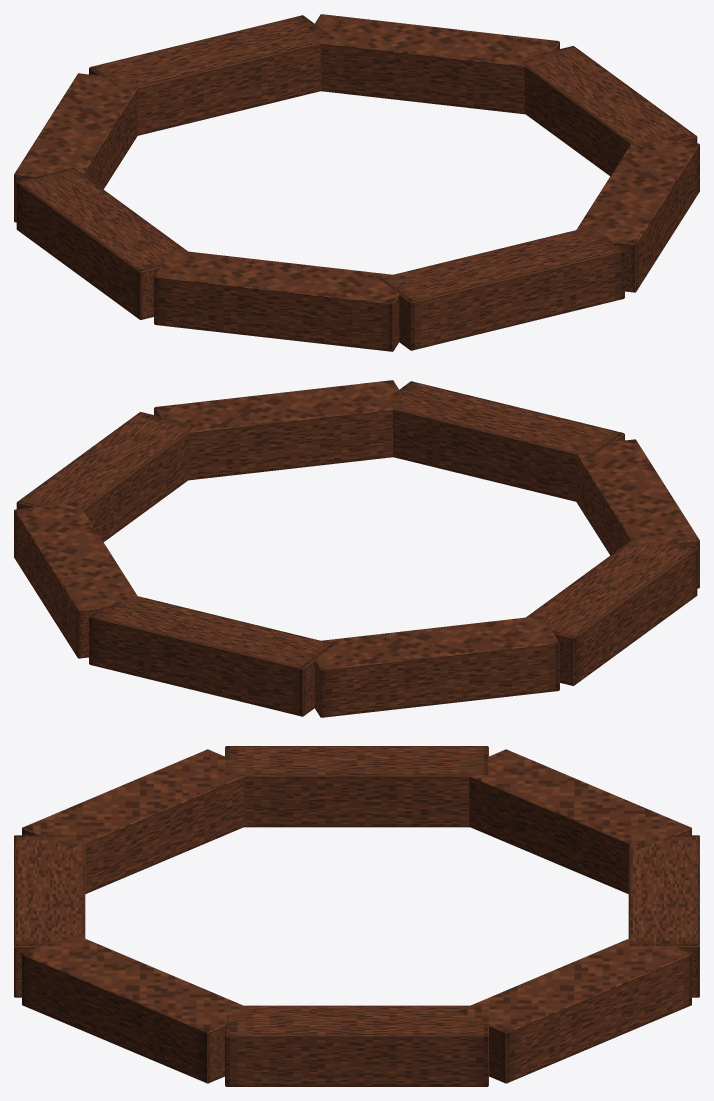
File: env_hole_stone_backing.fbx
3 views of the same model, one above another, from view 1: azimuth 30°, elevation 25°; view 2: azimuth 150°, elevation 25°; view 3: azimuth 270°, elevation 25° (orthographic). The views are drawn at different scales.
Parts seen in each view (by area): view 1: env_hole_stone_backing; view 2: env_hole_stone_backing; view 3: env_hole_stone_backing.
Boxes of the visible parts, <box> form: env_hole_stone_backing: <box>14,14,699,351</box>; env_hole_stone_backing: <box>14,380,699,717</box>; env_hole_stone_backing: <box>14,746,699,1086</box>.
Size of the model in its own units: 144 by 12 by 144.
Materials: 1 (1 with a texture image).
